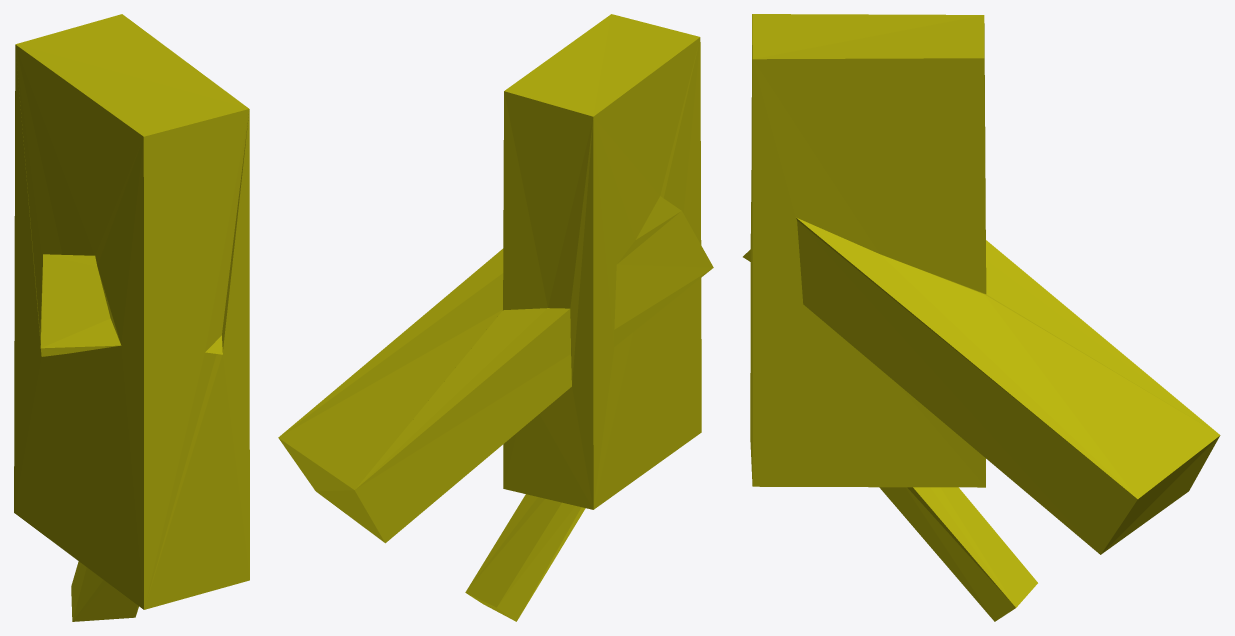
3 views of the same model, side by side, from view 1: azimuth 30°, elevation 25°; view 2: azimuth 150°, elevation 25°; view 3: azimuth 270°, elevation 25° (orthographic). The views are drawn at different scales.
Parts seen in each view (by area): view 1: 974_Cube.3934; view 2: 974_Cube.3934; view 3: 974_Cube.3934.
Boxes of the visible parts, box(x1,y1,x2,y2) form: 974_Cube.3934: box(14, 14, 249, 621); 974_Cube.3934: box(278, 14, 713, 621); 974_Cube.3934: box(743, 14, 1220, 621).
Bounding box in the file's own units: 9.35 × 15.61 × 12.18.
